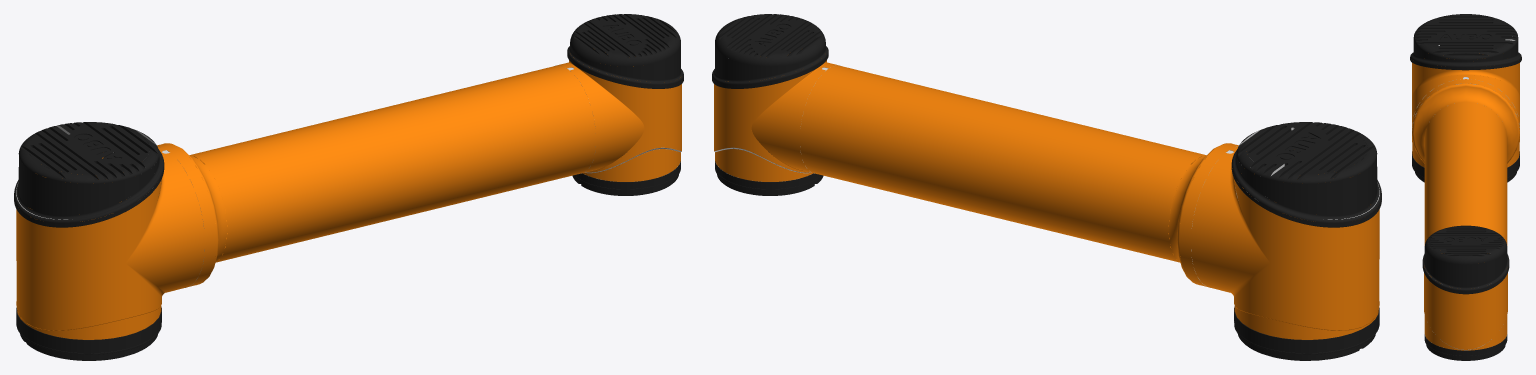
File: upperArm_Link.DAE
3 views of the same model, side by side, from view 1: azimuth 30°, elevation 25°; view 2: azimuth 150°, elevation 25°; view 3: azimuth 270°, elevation 25° (orthographic). The views are drawn at different scales.
Visible parts, largest first — view 1: NONE-DC_Shell_ncl1_14, NONE-DC_Shell_ncl1_13, NONE-DC_Shell_ncl1_1, NONE-DC_Shell_ncl1_16, NONE-DC_Shell_ncl1_24, NONE-DC_Shell_ncl1_25, NONE-DC_Shell, NONE-DC_Shell_ncl1_23, NONE-DC_Shell_ncl1_17, NONE-DC_Shell_ncl1_15; view 2: NONE-DC_Shell_ncl1_14, NONE-DC_Shell_ncl1_13, NONE-DC_Shell_ncl1_1, NONE-DC_Shell_ncl1_16, NONE-DC_Shell_ncl1_24, NONE-DC_Shell_ncl1_25, NONE-DC_Shell, NONE-DC_Shell_ncl1_23, NONE-DC_Shell_ncl1_17, NONE-DC_Shell_ncl1_15; view 3: NONE-DC_Shell_ncl1_14, NONE-DC_Shell_ncl1_1, NONE-DC_Shell_ncl1_16, NONE-DC_Shell_ncl1_24, NONE-DC_Shell_ncl1_13, NONE-DC_Shell_ncl1_23, NONE-DC_Shell_ncl1_17, NONE-DC_Shell_ncl1_15, NONE-DC_Shell.
Part boxes in pixels (left/top/right/bottom): NONE-DC_Shell_ncl1_14: left=157, top=65, right=595, bottom=286; NONE-DC_Shell_ncl1_13: left=16, top=146, right=204, bottom=339; NONE-DC_Shell_ncl1_1: left=14, top=122, right=164, bottom=227; NONE-DC_Shell_ncl1_16: left=567, top=14, right=683, bottom=88; NONE-DC_Shell_ncl1_24: left=569, top=57, right=681, bottom=172; NONE-DC_Shell_ncl1_25: left=558, top=62, right=644, bottom=172; NONE-DC_Shell: left=16, top=307, right=161, bottom=360; NONE-DC_Shell_ncl1_23: left=583, top=149, right=680, bottom=181; NONE-DC_Shell_ncl1_17: left=575, top=161, right=680, bottom=189; NONE-DC_Shell_ncl1_15: left=572, top=154, right=680, bottom=195; NONE-DC_Shell_ncl1_14: left=800, top=65, right=1249, bottom=286; NONE-DC_Shell_ncl1_13: left=1191, top=146, right=1379, bottom=339; NONE-DC_Shell_ncl1_1: left=1231, top=122, right=1381, bottom=227; NONE-DC_Shell_ncl1_16: left=712, top=14, right=828, bottom=88; NONE-DC_Shell_ncl1_24: left=714, top=58, right=826, bottom=172; NONE-DC_Shell_ncl1_25: left=751, top=62, right=837, bottom=172; NONE-DC_Shell: left=1234, top=307, right=1379, bottom=360; NONE-DC_Shell_ncl1_23: left=715, top=149, right=812, bottom=181; NONE-DC_Shell_ncl1_17: left=715, top=148, right=820, bottom=189; NONE-DC_Shell_ncl1_15: left=715, top=151, right=823, bottom=195; NONE-DC_Shell_ncl1_14: left=1412, top=79, right=1519, bottom=283; NONE-DC_Shell_ncl1_1: left=1410, top=14, right=1521, bottom=70; NONE-DC_Shell_ncl1_16: left=1422, top=225, right=1509, bottom=294; NONE-DC_Shell_ncl1_24: left=1424, top=267, right=1507, bottom=349; NONE-DC_Shell_ncl1_13: left=1412, top=53, right=1519, bottom=167; NONE-DC_Shell_ncl1_23: left=1424, top=315, right=1507, bottom=350; NONE-DC_Shell_ncl1_17: left=1424, top=334, right=1507, bottom=355; NONE-DC_Shell_ncl1_15: left=1424, top=340, right=1507, bottom=360; NONE-DC_Shell: left=1412, top=151, right=1519, bottom=182.
Bounding box in the file's own units: 0.7865 × 0.157 × 0.211.
